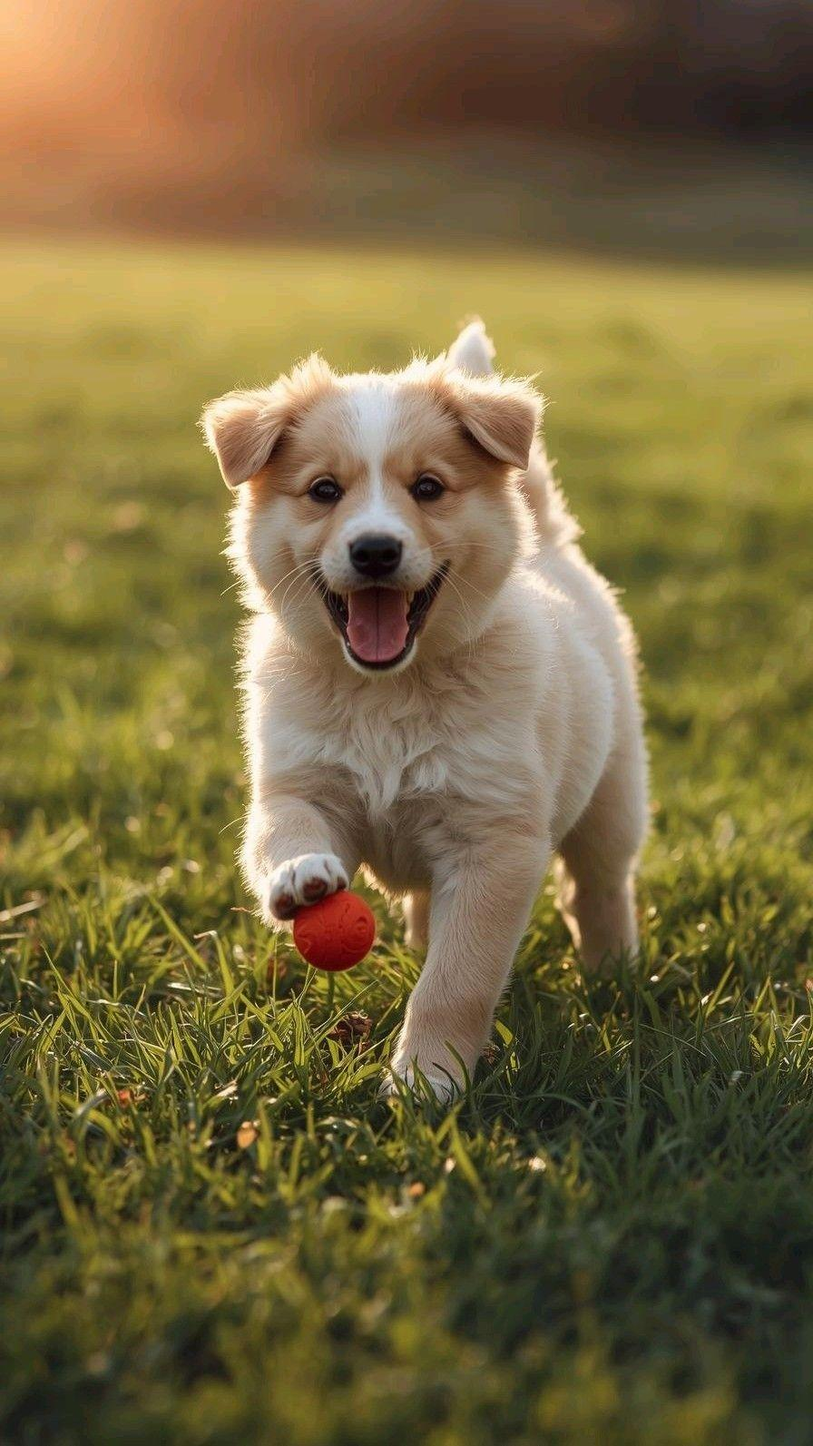puppy-dog: (199, 315, 651, 1114)
